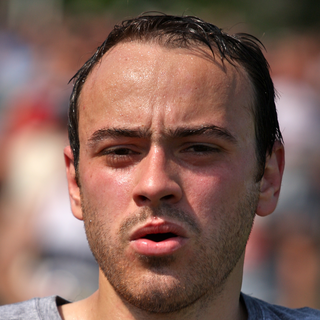eye: (173, 135, 228, 161), (93, 141, 145, 166)
